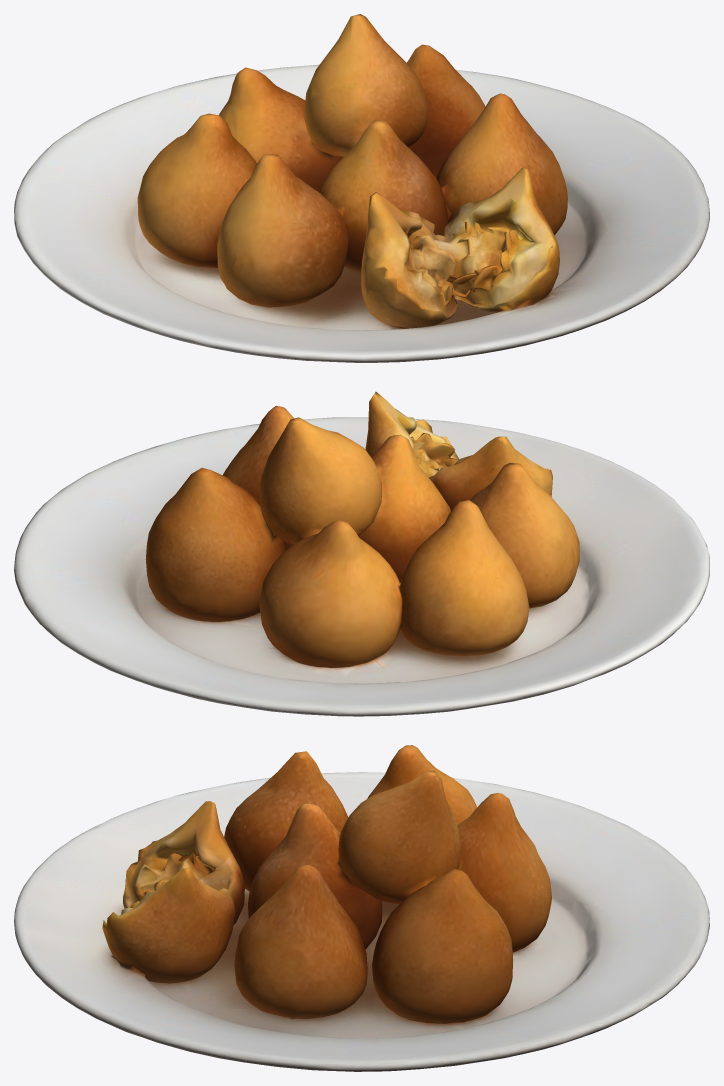
The model's file is coxinha.glb.
3 views of the same model, one above another, from view 1: azimuth 30°, elevation 25°; view 2: azimuth 150°, elevation 25°; view 3: azimuth 270°, elevation 25° (orthographic).
Visible parts, largest first — view 1: tripo_node_03fd4199-e2fd-4603-9362-ee45ee9b539f; view 2: tripo_node_03fd4199-e2fd-4603-9362-ee45ee9b539f; view 3: tripo_node_03fd4199-e2fd-4603-9362-ee45ee9b539f.
Part boxes in pixels (<box>): tripo_node_03fd4199-e2fd-4603-9362-ee45ee9b539f: <box>14,14,709,362</box>; tripo_node_03fd4199-e2fd-4603-9362-ee45ee9b539f: <box>14,391,709,716</box>; tripo_node_03fd4199-e2fd-4603-9362-ee45ee9b539f: <box>14,745,709,1071</box>.
Bounding box in the file's own units: 1 × 0.321 × 0.9977.
Materials: 1 (1 with a texture image).
